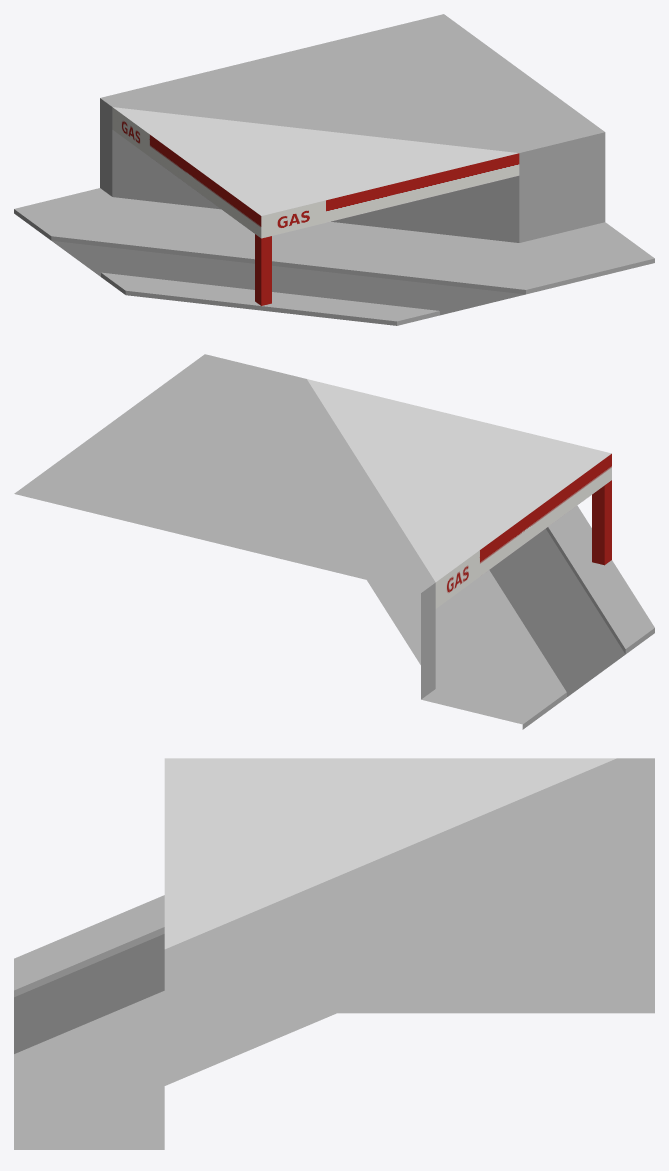
The model's file is petrol.glb.
3 renders of one model, top to bottom at view 1: azimuth 30°, elevation 25°; view 2: azimuth 150°, elevation 25°; view 3: azimuth 270°, elevation 25°, orthographic. The views are drawn at different scales.
Visible parts, largest first — view 1: Plane, Upper, Column; view 2: Plane, Upper, Column; view 3: Plane, Upper.
Boxes of the visible parts, x1,y1,x2,y2 form: Plane: [14, 14, 654, 325]; Upper: [112, 107, 519, 238]; Column: [255, 234, 271, 305]; Plane: [14, 354, 654, 729]; Upper: [307, 379, 611, 608]; Column: [592, 480, 611, 565]; Plane: [14, 758, 654, 1149]; Upper: [164, 758, 616, 949].
Size of what is drawn, in the model's own units: 20 by 4.2 by 17.
5 materials, 1 textured.
